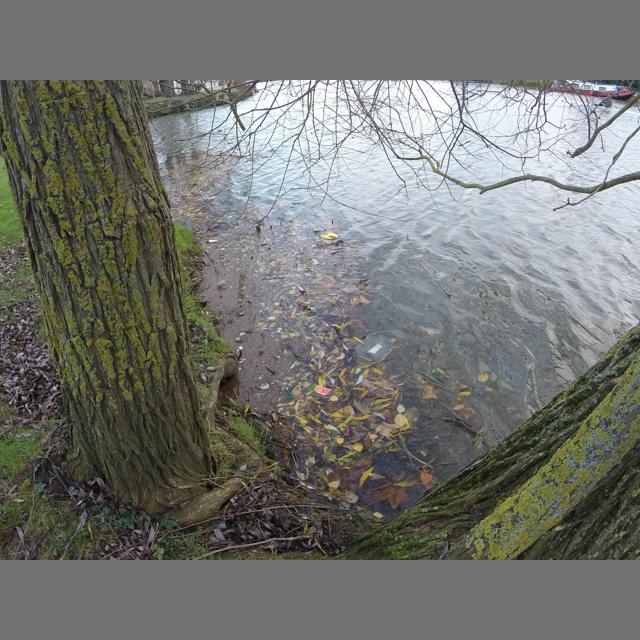litter: (354, 333, 395, 361), (315, 385, 332, 396), (217, 280, 227, 290), (206, 240, 218, 243), (286, 394, 292, 399)
